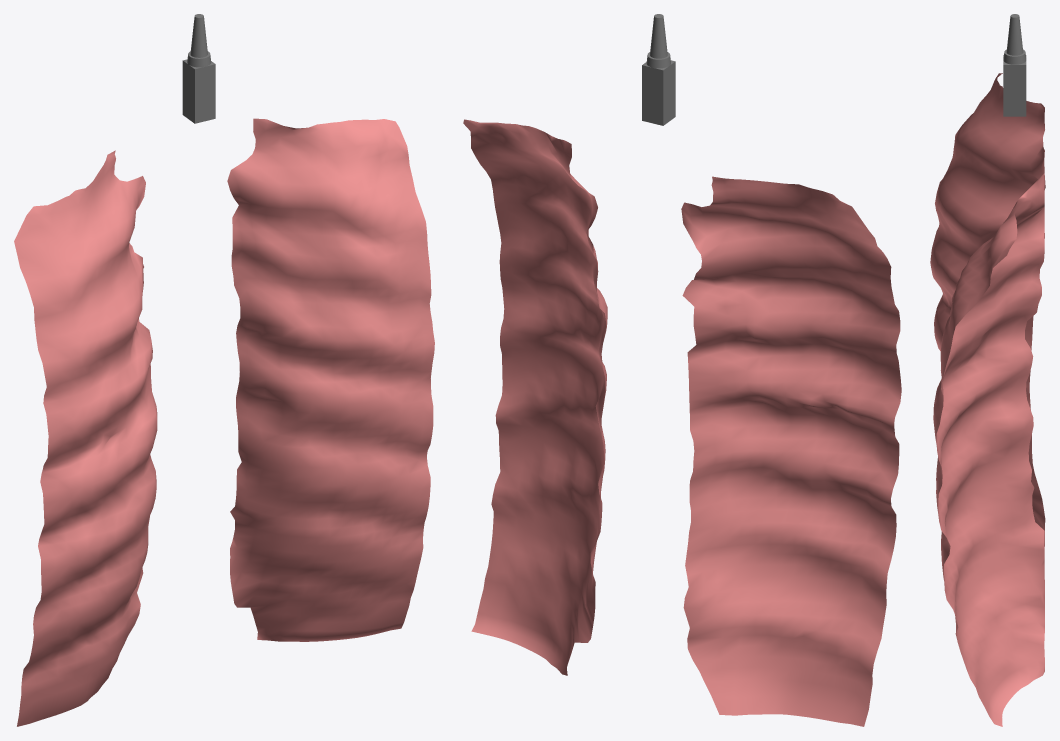
File: RA Difficult Lung.fbx
3 views of the same model, side by side, from view 1: azimuth 30°, elevation 25°; view 2: azimuth 150°, elevation 25°; view 3: azimuth 270°, elevation 25° (orthographic). The views are drawn at different scales.
Parts seen in each view (by area): view 1: Lung Right RAISED 3mm, Lung Left RAISED 3mm, Sensor; view 2: Lung Left RAISED 3mm, Lung Right RAISED 3mm, Sensor; view 3: Lung Right RAISED 3mm, Lung Left RAISED 3mm, Sensor.
Boxes of the visible parts, bbox=[...] form: Lung Right RAISED 3mm: bbox=[227, 118, 434, 641]; Lung Left RAISED 3mm: bbox=[14, 150, 157, 726]; Sensor: bbox=[182, 14, 215, 123]; Lung Left RAISED 3mm: bbox=[681, 176, 901, 726]; Lung Right RAISED 3mm: bbox=[463, 119, 607, 675]; Sensor: bbox=[642, 14, 675, 125]; Lung Right RAISED 3mm: bbox=[933, 173, 1044, 726]; Lung Left RAISED 3mm: bbox=[930, 73, 1045, 546]; Sensor: bbox=[1003, 14, 1026, 116].
Bounding box in the file's own units: 151 × 241 × 40.28.
